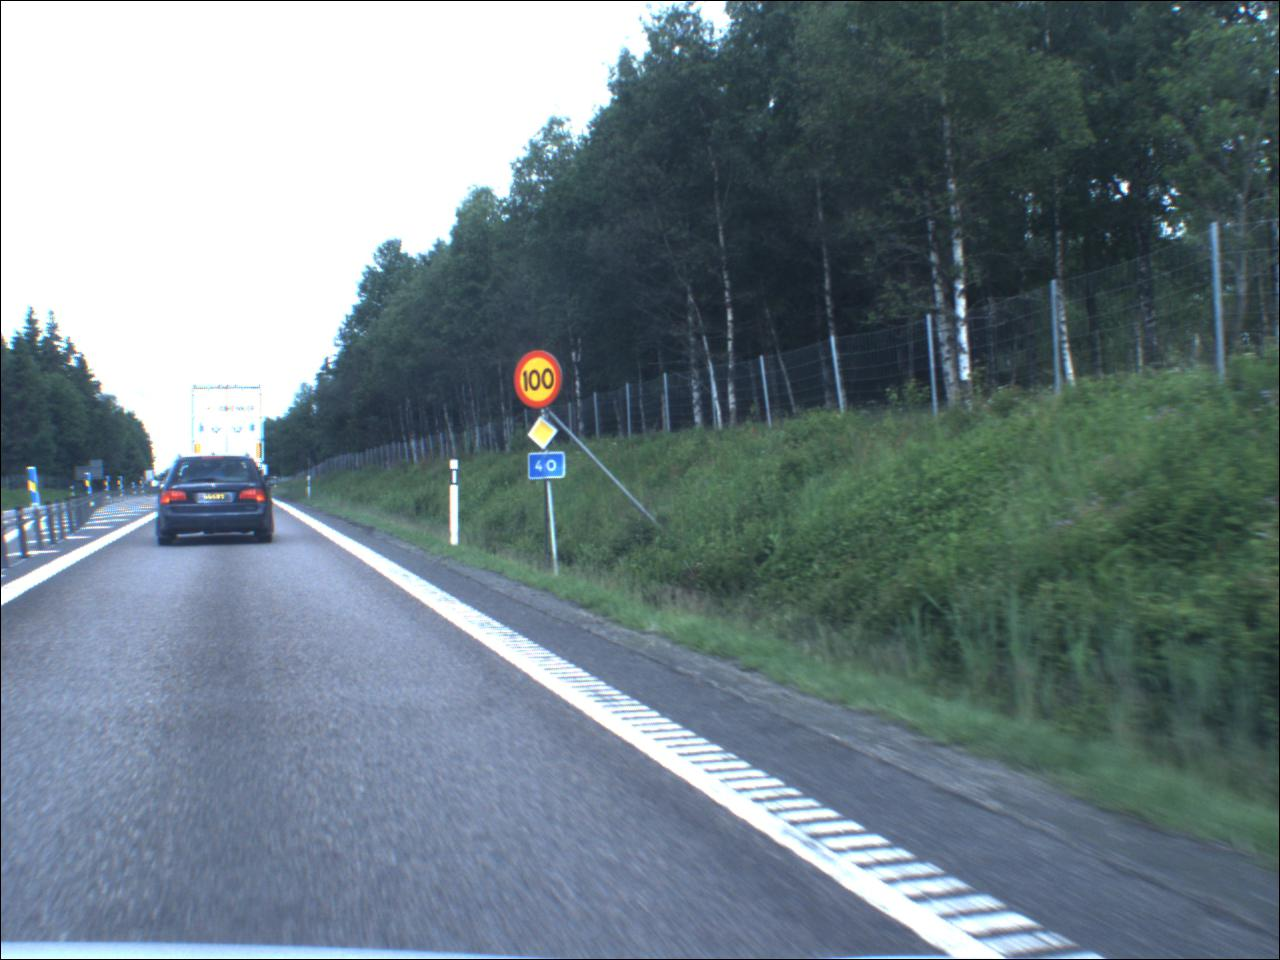100_SIGN: (512, 350, 565, 410)
PRIORITY_ROAD: (530, 418, 561, 451)
